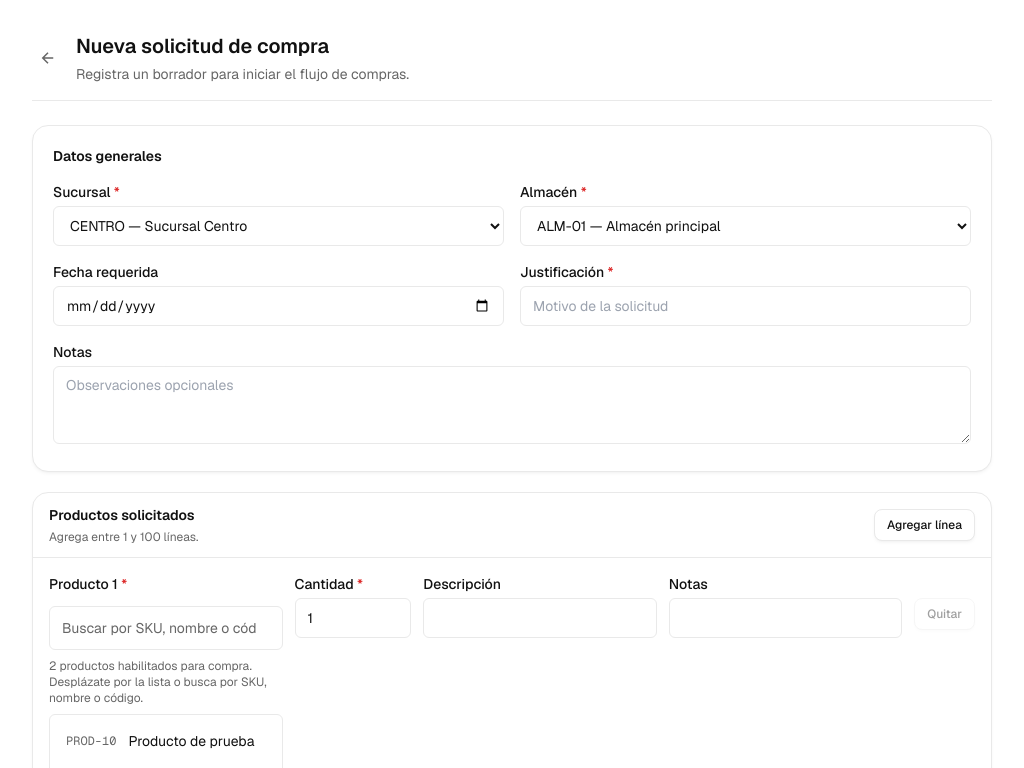
Test: PurchaseRequestEditor › shows an empty state when the product search has no matches
The width and height of the screenshot is (1024, 768).
Expected: the option with aria-label "Seleccionar PROD-10 — Producto de prueba" is shown, [66,732,254,750]
Step 1. Type "inexistente" into the dropdown labelled "Producto 1" → (166, 628), box [49,606,282,650]
(page scrolled)
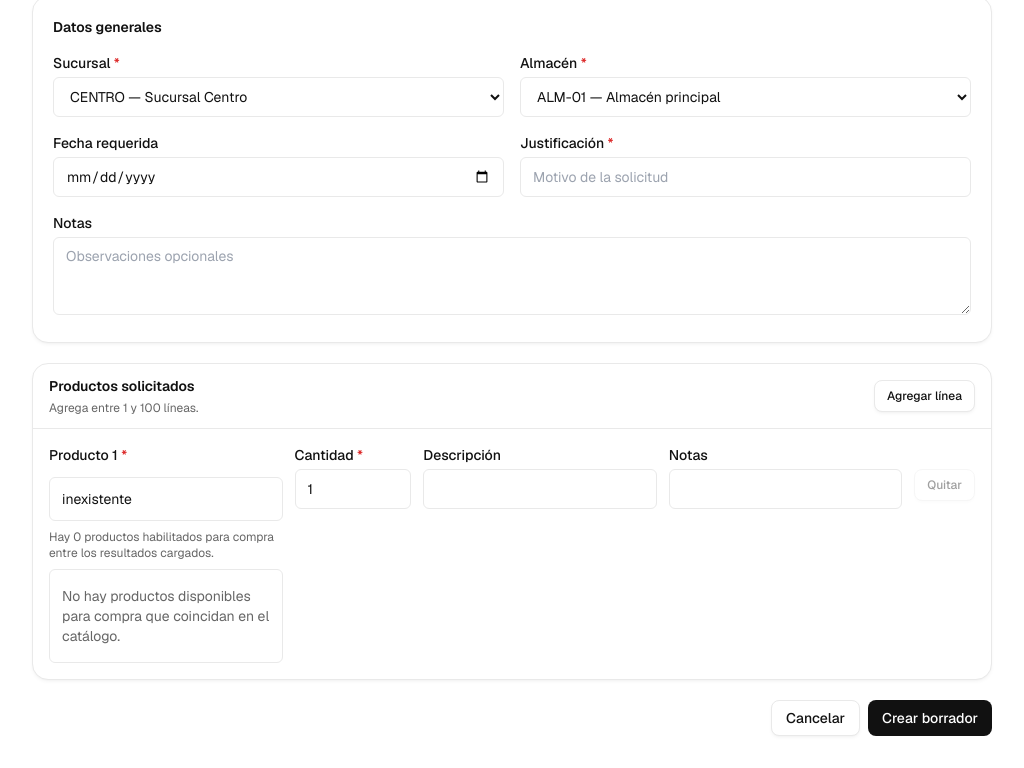
Expected: the text "No hay productos disponibles para compra que coincidan en el catálogo." is shown, [50,570,282,662]
